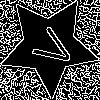V: (24, 21, 78, 73)
